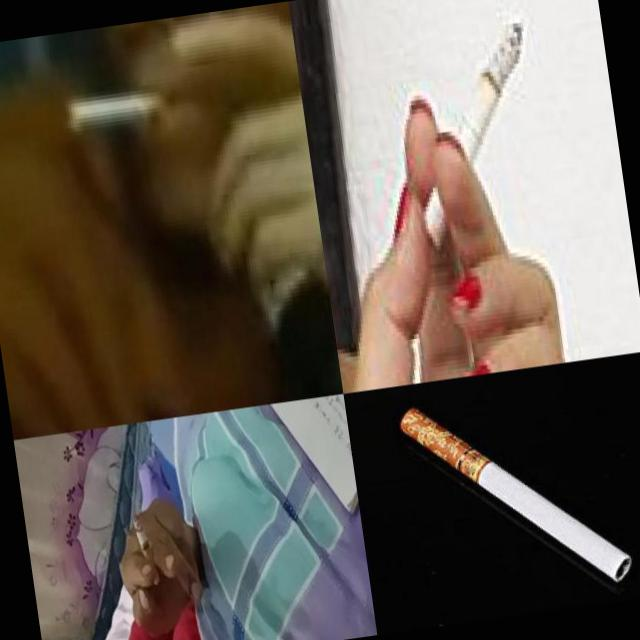cigarette: (396, 382, 636, 612), (396, 15, 553, 254), (65, 78, 168, 132), (132, 512, 162, 588)
